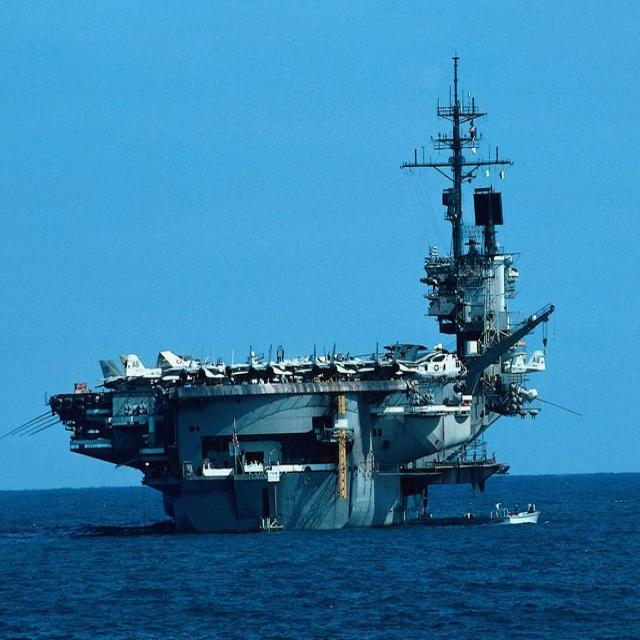navalvessels: (44, 47, 556, 524)
